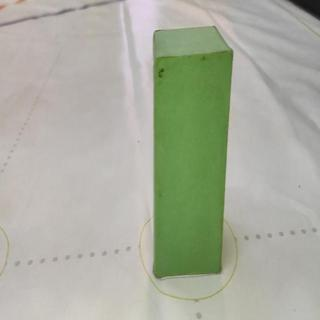greenbox: (151, 23, 234, 280)
